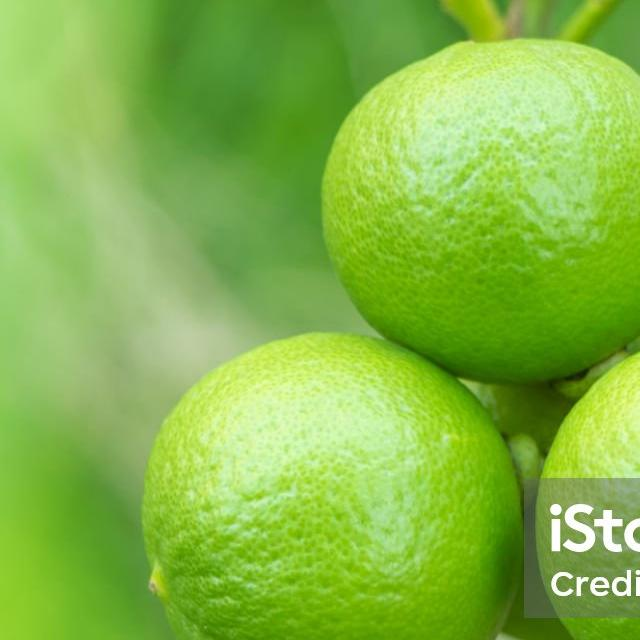lime: (135, 334, 531, 640), (316, 38, 640, 390)
